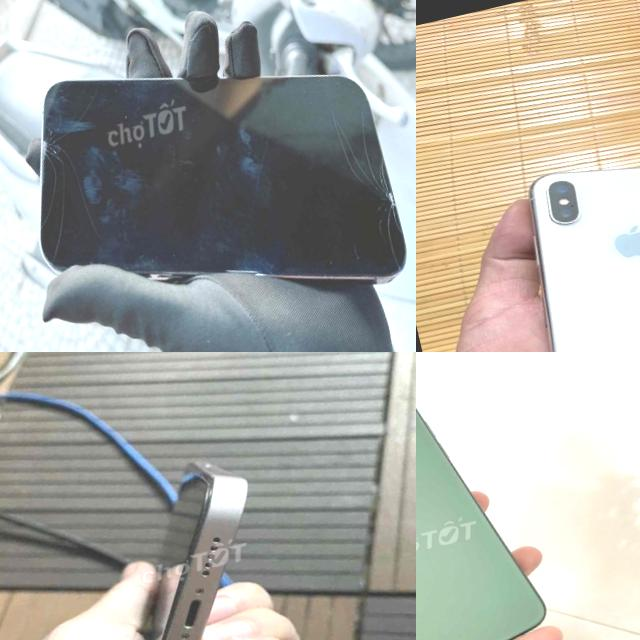gen_11: (416, 352, 563, 640)
gen_12_13: (0, 1, 416, 352), (80, 458, 307, 640)
gen_x_xs: (529, 167, 640, 352)
